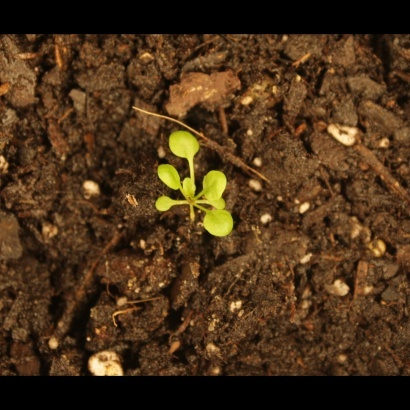leaf: (165, 128, 207, 162), (200, 210, 239, 238), (201, 169, 230, 203), (156, 162, 183, 195), (178, 176, 201, 208), (151, 194, 180, 217), (206, 192, 229, 215)
